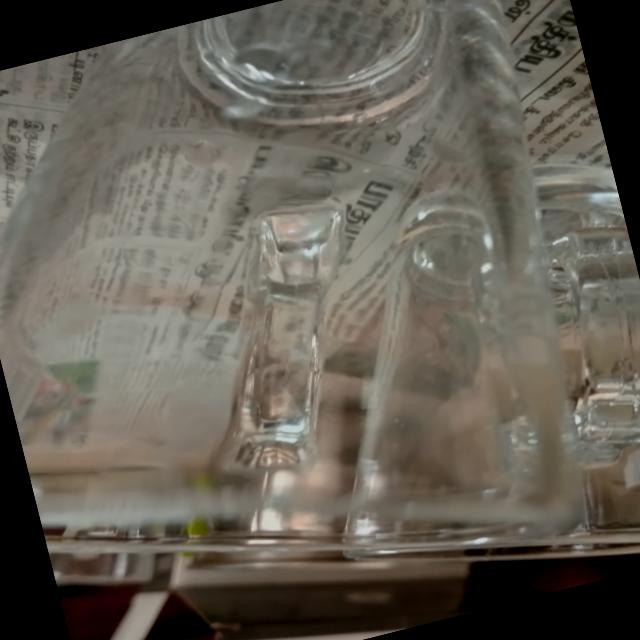glass-VX4N: (0, 0, 610, 640), (270, 126, 640, 632), (44, 516, 156, 606)
